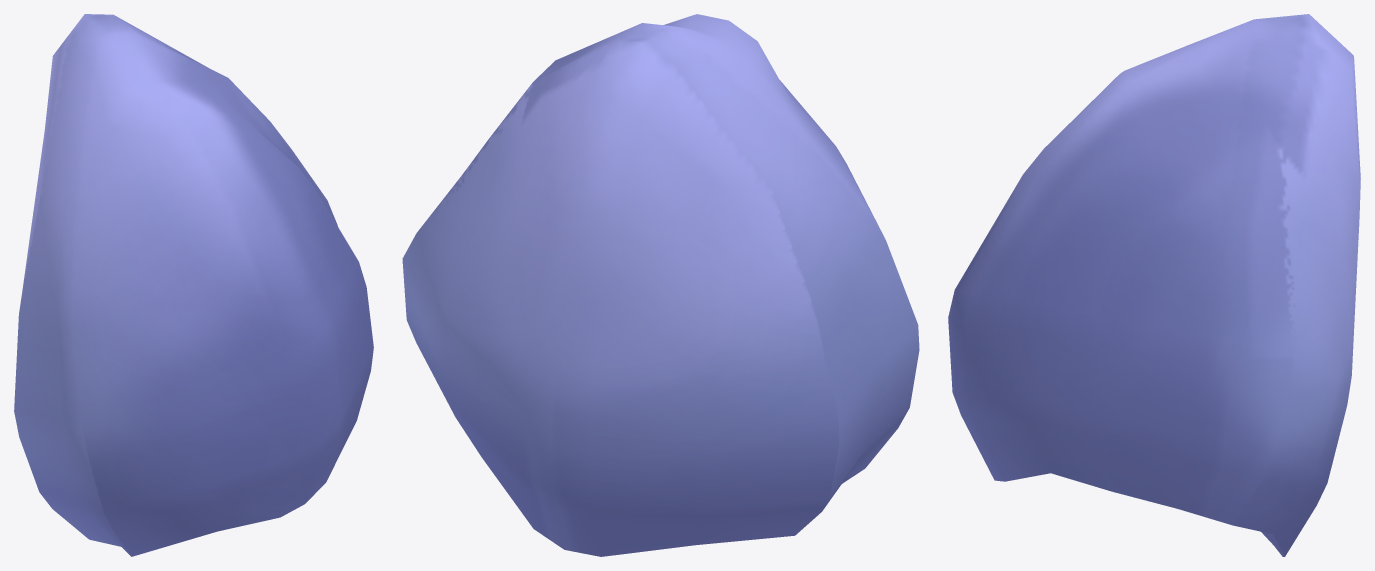
Rendered from Swamp_Rocks_4.glb.
3 renders of one model, left to right at view 1: azimuth 30°, elevation 25°; view 2: azimuth 150°, elevation 25°; view 3: azimuth 270°, elevation 25°, orthographic. The views are drawn at different scales.
Parts seen in each view (by area): view 1: Cube.009; view 2: Cube.009; view 3: Cube.009.
Part boxes in pixels (box(x1,y1,x2,y2)): Cube.009: box(14, 14, 373, 556); Cube.009: box(402, 14, 919, 556); Cube.009: box(948, 14, 1360, 556).
Size of the model in its own units: 72.98 by 95.76 by 71.18.
1 material, 1 textured.
